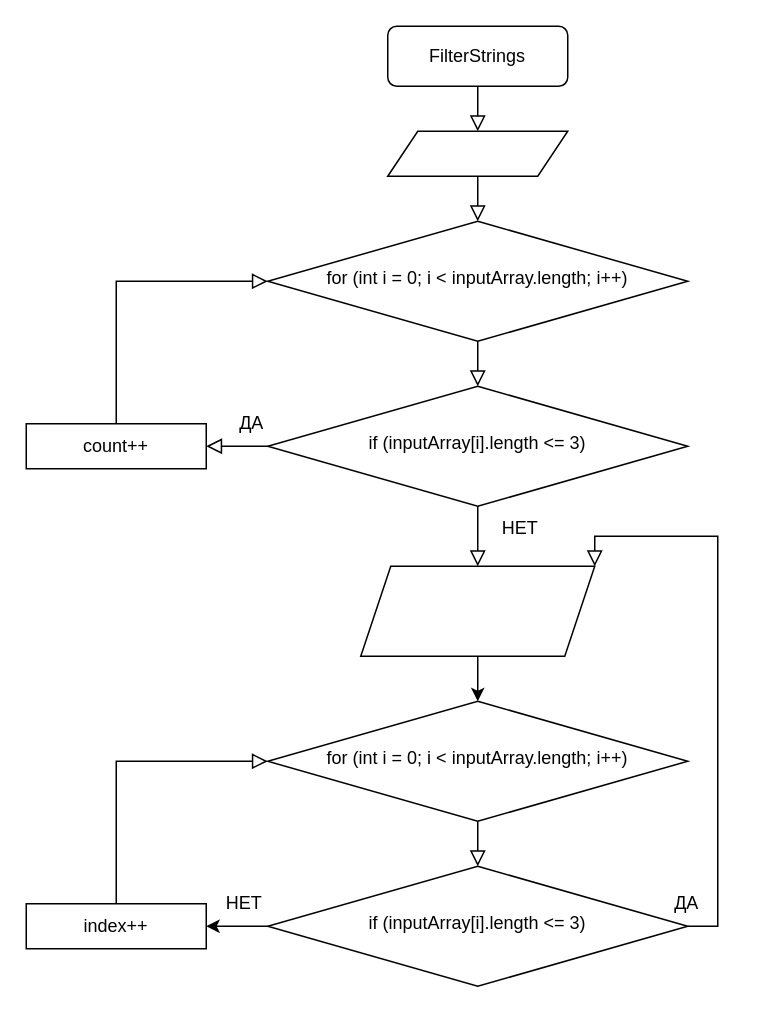
Image size: 759x1013. Some labels were removed from this diagram. Here are the shapes that lost their labels. From the top down, the centre of each, then its label:
At (x=477, y=153): "count = 0".
At (x=477, y=610): "resultArray = count index = 0".
